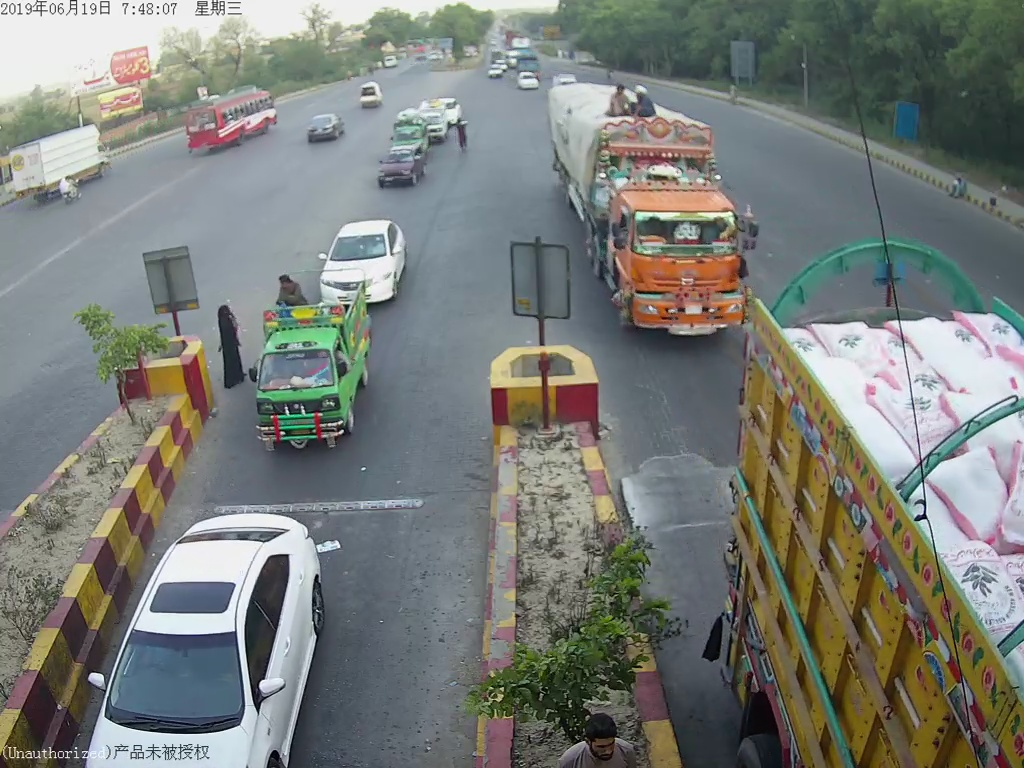Cat-1: (246, 288, 373, 445), (312, 219, 415, 308), (376, 148, 432, 193)
Cat-5: (546, 63, 759, 340)
